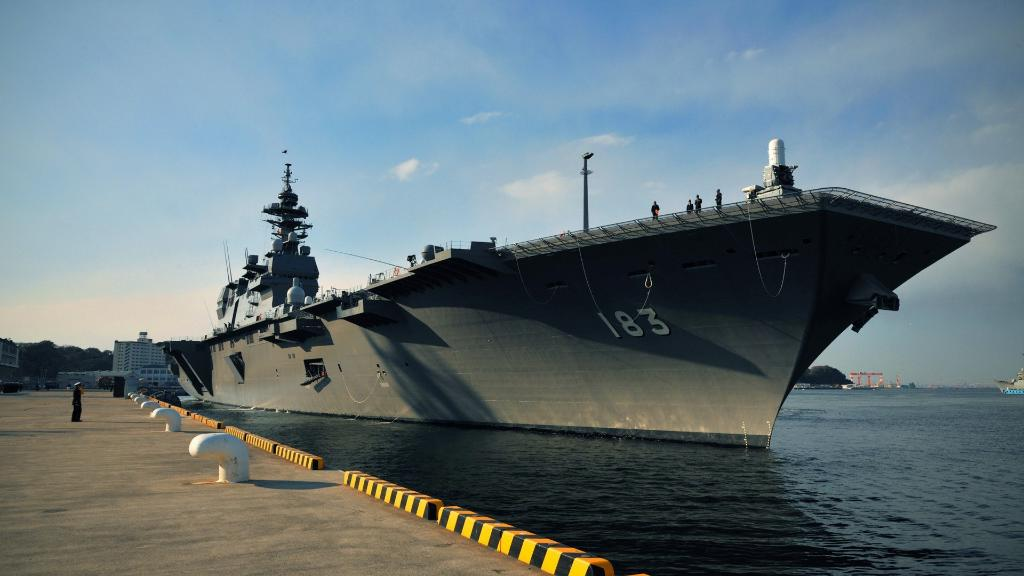Warship: (154, 134, 1006, 458)
